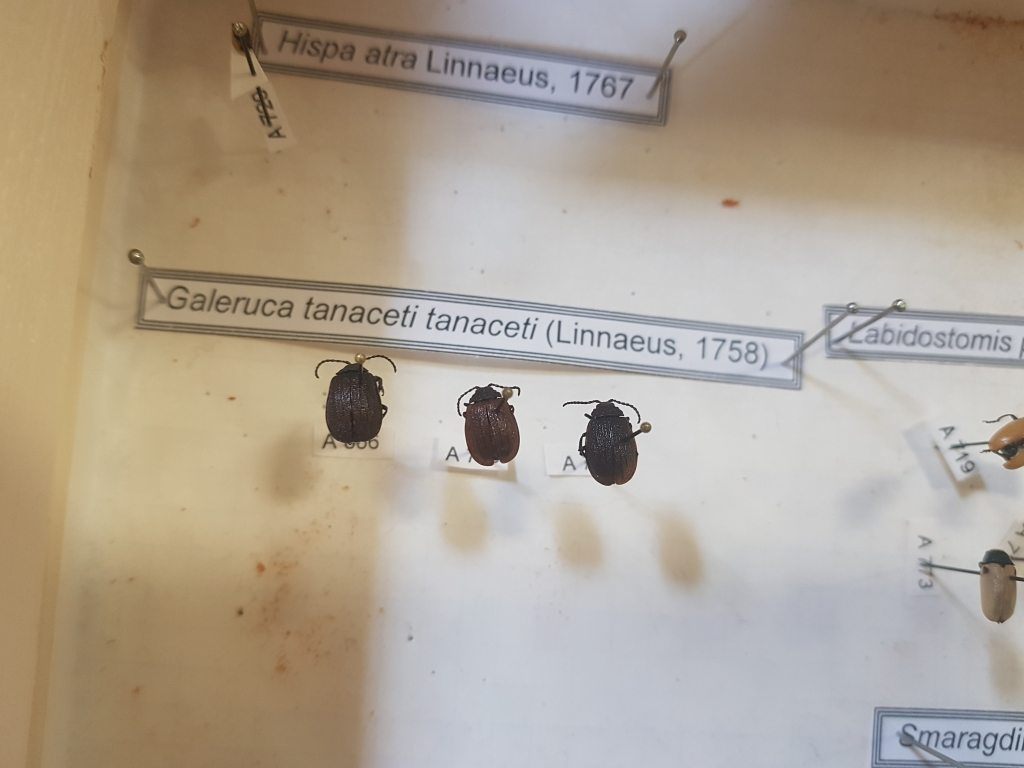Galeruca_tanaceti: (561, 393, 646, 486), (314, 354, 401, 444), (452, 381, 526, 469)
